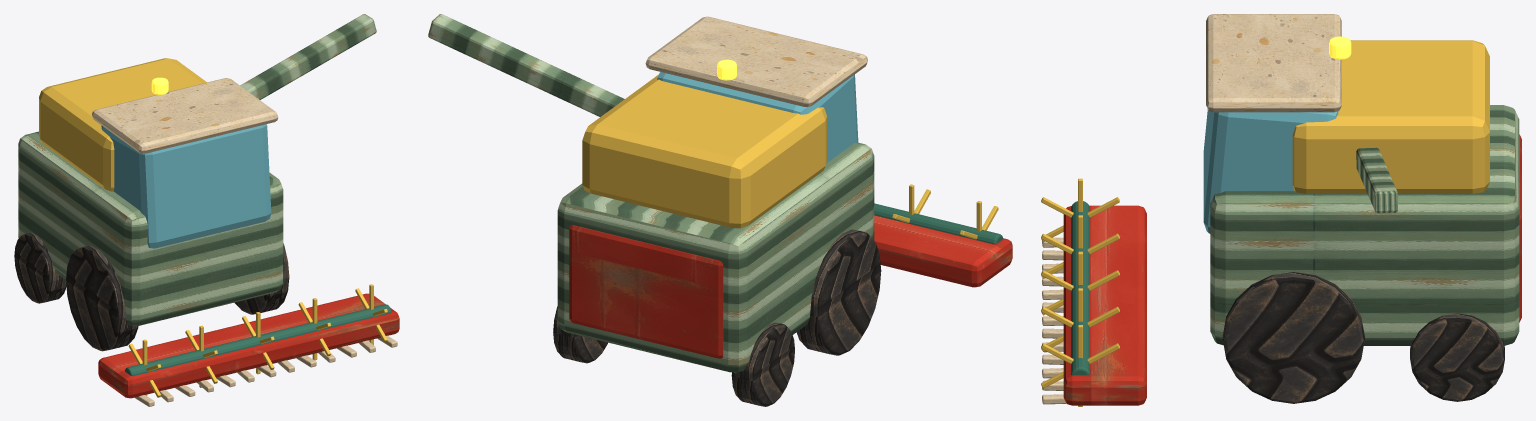
Rendered from bracken_combine.glb.
The picture shows the model from 3 angles, left to right: view 1: azimuth 30°, elevation 25°; view 2: azimuth 150°, elevation 25°; view 3: azimuth 270°, elevation 25°; orthographic projection. The views are drawn at different scales.
Visible parts, largest first — view 1: Painted sage machinery.001, Cab glass, Painted warm red, Harvest gold, Painted tyre rubber, Painted warm cream.001, Painted sage machinery.002, Deep green steel.001, Harvest gold.001, Painted warm cream.002; view 2: Painted sage machinery.001, Harvest gold, Painted warm red.001, Painted tyre rubber, Painted warm cream.001, Painted warm red, Painted sage machinery.002, Cab glass, Deep green steel.001, Harvest gold.001; view 3: Painted sage machinery.001, Harvest gold, Painted tyre rubber, Painted warm cream.001, Painted warm red, Cab glass, Harvest gold.001, Deep green steel.001, Painted warm cream.002, Painted sage machinery.002, Painted warm red.001, Status amber.001.
Part boxes in pixels (x1=…): Painted sage machinery.001: x1=18, y1=131, x2=283, y2=325; Cab glass: x1=101, y1=124, x2=271, y2=248; Painted warm red: x1=98, y1=293, x2=399, y2=398; Harvest gold: x1=39, y1=58, x2=206, y2=191; Painted tyre rubber: x1=14, y1=232, x2=289, y2=351; Painted warm cream.001: x1=92, y1=78, x2=278, y2=153; Painted sage machinery.002: x1=240, y1=14, x2=376, y2=99; Deep green steel.001: x1=125, y1=304, x2=391, y2=376; Harvest gold.001: x1=128, y1=284, x2=387, y2=397; Painted warm cream.002: x1=135, y1=335, x2=397, y2=406; Painted sage machinery.001: x1=557, y1=142, x2=874, y2=372; Harvest gold: x1=582, y1=74, x2=826, y2=228; Painted warm red.001: x1=569, y1=225, x2=723, y2=358; Painted tyre rubber: x1=553, y1=229, x2=881, y2=406; Painted warm cream.001: x1=645, y1=16, x2=867, y2=106; Painted warm red: x1=874, y1=215, x2=1012, y2=287; Painted sage machinery.002: x1=428, y1=14, x2=624, y2=116; Cab glass: x1=657, y1=72, x2=858, y2=163; Deep green steel.001: x1=874, y1=203, x2=1003, y2=244; Harvest gold.001: x1=892, y1=184, x2=998, y2=239; Painted sage machinery.001: x1=1210, y1=105, x2=1519, y2=345; Harvest gold: x1=1292, y1=40, x2=1489, y2=193; Painted tyre rubber: x1=1222, y1=272, x2=1504, y2=403; Painted warm cream.001: x1=1206, y1=14, x2=1341, y2=112; Painted warm red: x1=1063, y1=205, x2=1146, y2=405; Cab glass: x1=1203, y1=109, x2=1338, y2=233; Harvest gold.001: x1=1041, y1=178, x2=1119, y2=406; Deep green steel.001: x1=1071, y1=201, x2=1089, y2=375; Painted warm cream.002: x1=1042, y1=237, x2=1066, y2=404; Painted sage machinery.002: x1=1356, y1=147, x2=1397, y2=213; Painted warm red.001: x1=1519, y1=134, x2=1521, y2=322; Status amber.001: x1=1329, y1=36, x2=1351, y2=59.
Size of the model in its own units: 9.1 by 5.53 by 7.78.
8 materials, 4 textured.
